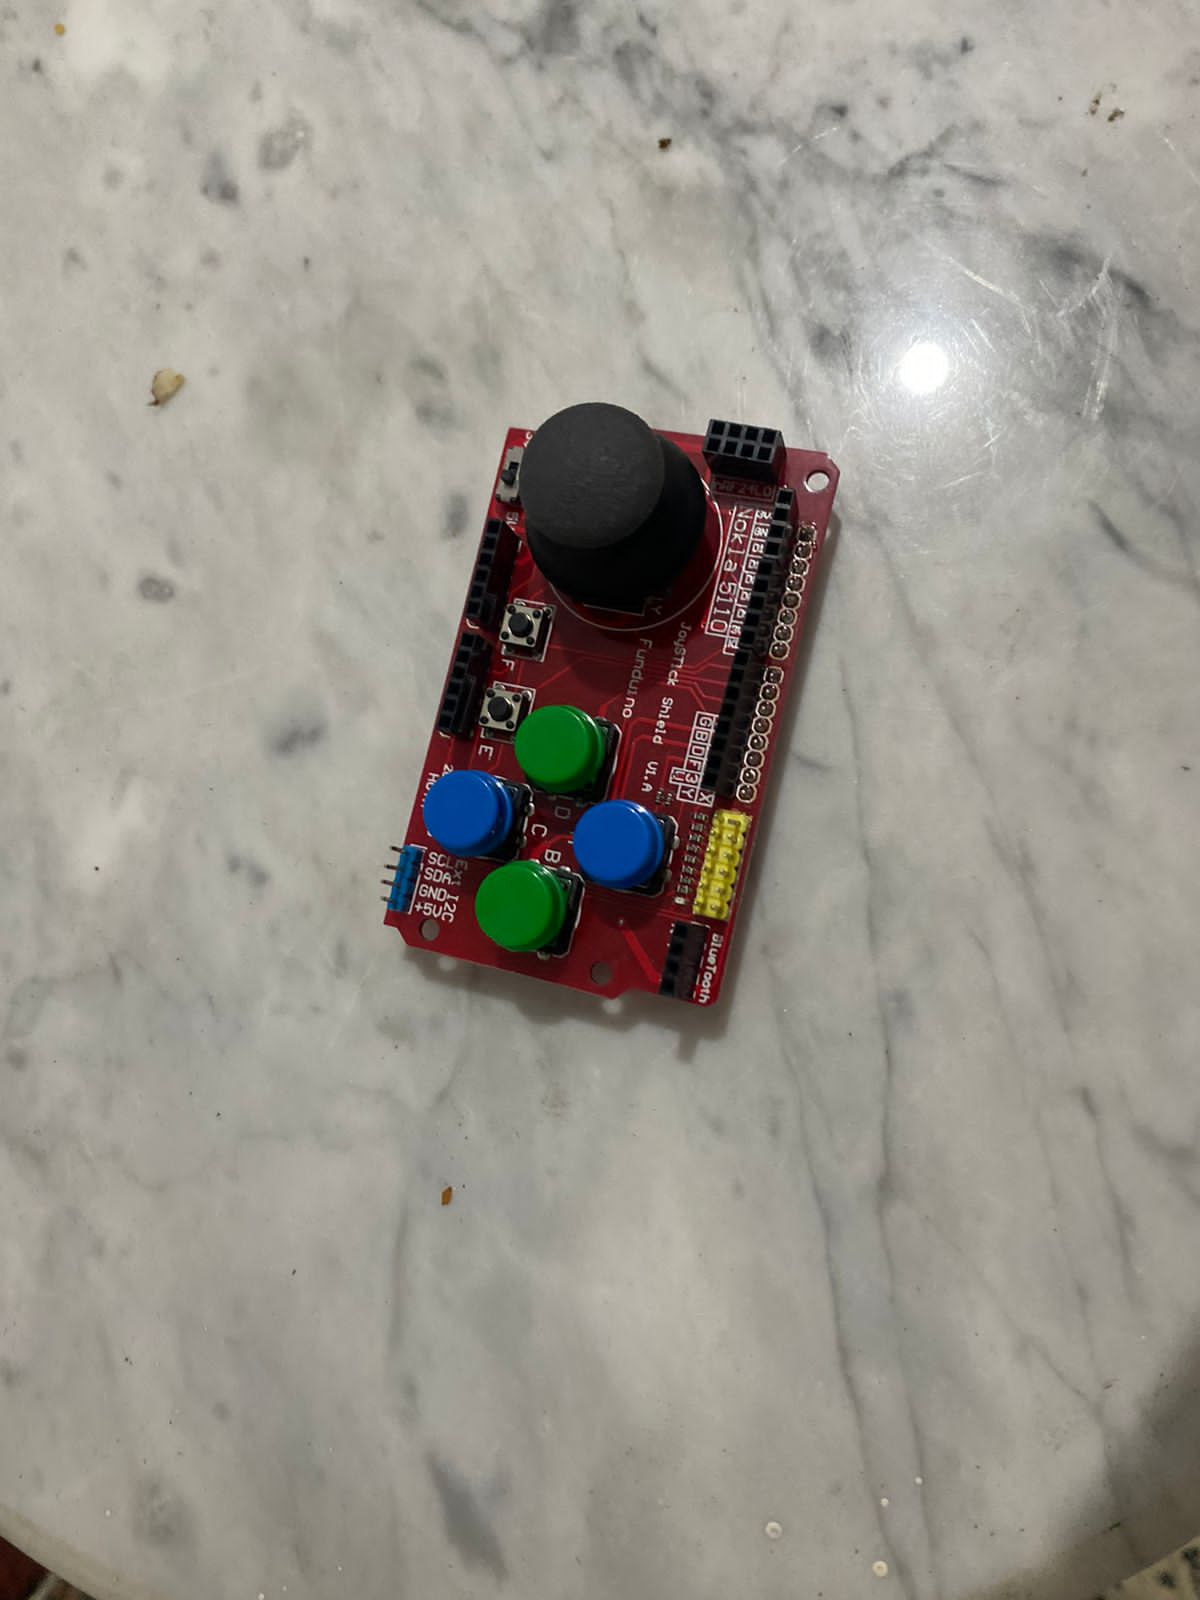Clavier-Joystick: (376, 397, 839, 1010)
